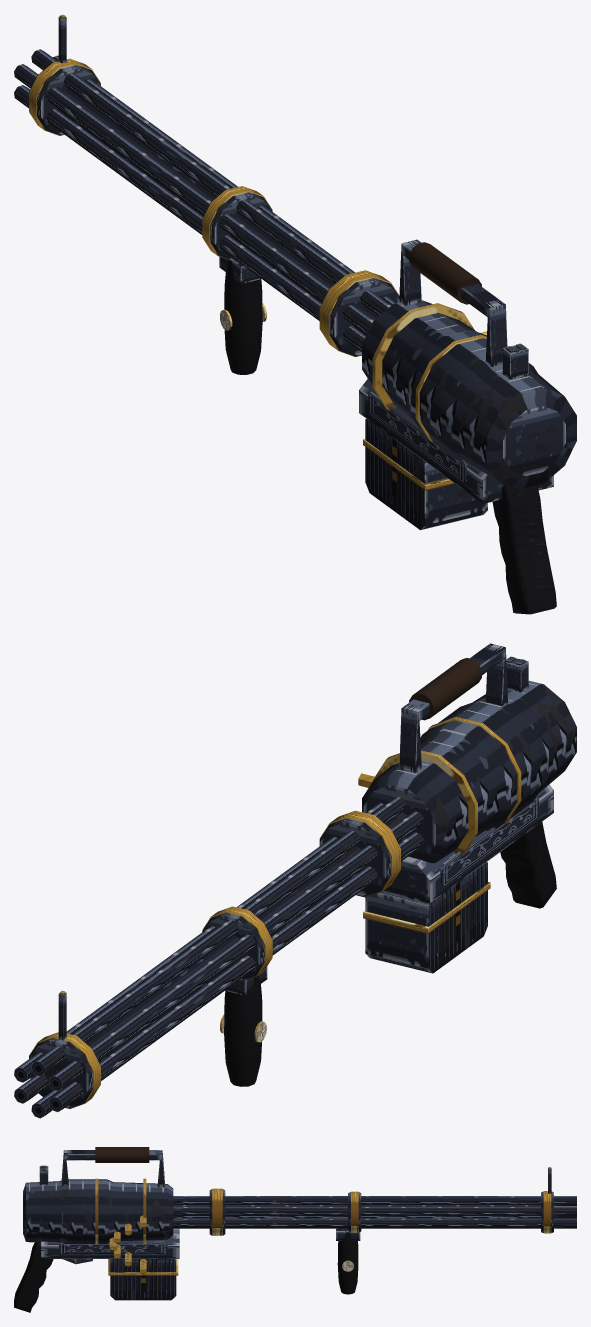
File: hmg_minigun_base.glb
The picture shows the model from 3 angles, top to bottom: view 1: azimuth 30°, elevation 25°; view 2: azimuth 150°, elevation 25°; view 3: azimuth 270°, elevation 25°; orthographic projection. The views are drawn at different scales.
Parts seen in each view (by area): view 1: receiver, furniture, magazine; view 2: receiver, magazine, furniture; view 3: receiver, magazine, furniture.
Part boxes in pixels (x1,y1,x2,y2): receiver: (14,14,576,503); furniture: (219,256,556,614); magazine: (363,331,487,530); receiver: (14,643,576,1118); magazine: (358,773,490,973); furniture: (220,822,556,1086); receiver: (23,1147,576,1264); magazine: (108,1215,178,1300); furniture: (14,1228,360,1312).
Bounding box in the file's own units: 0.1251 × 0.2962 × 0.9348.
2 materials, 2 textured.
